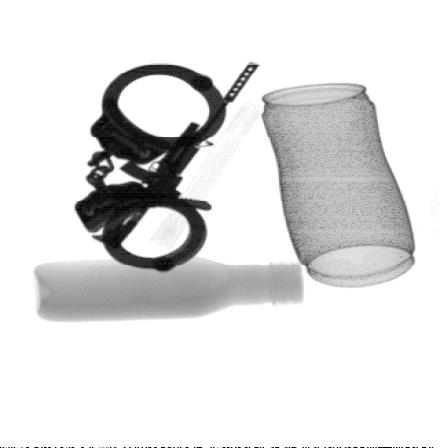Gun: (86, 59, 266, 252)
HandCuffs: (69, 61, 230, 273)
